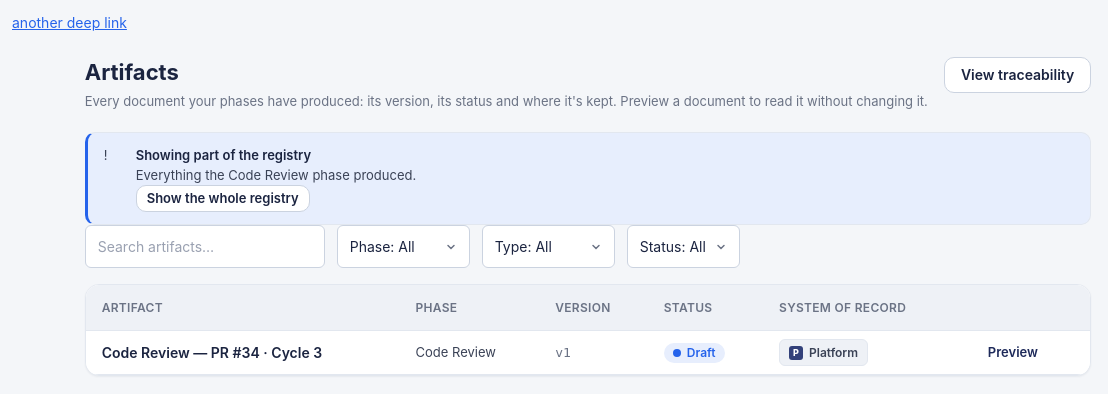
Test case: Show the whole registry › clears the scope a gate's Preview link applied, and shows everything
Expected: the text "Code Review — PR #34 · Cycle 3" is shown, [102,344,322,360]
Expected: the text "Showing part of the registry" is shown, [136,147,311,163]
Click the link "Show the whole registry".
click(223, 198)  # box [136,185,310,212]
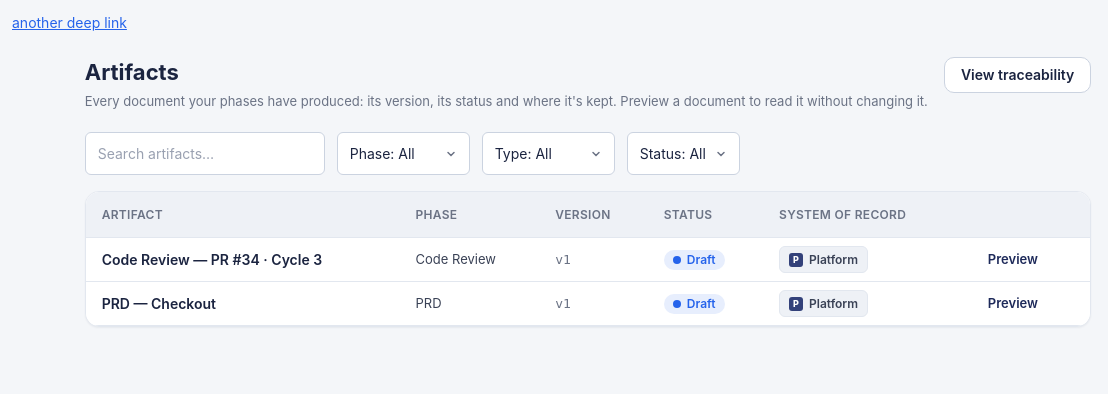
Expected: the text "Code Review — PR #34 · Cycle 3" is shown, [102,250,322,268]
Expected: the text "PRD — Checkout" is shown, [102,294,216,312]
Expected: the text "Showing part of the registry" is gone
